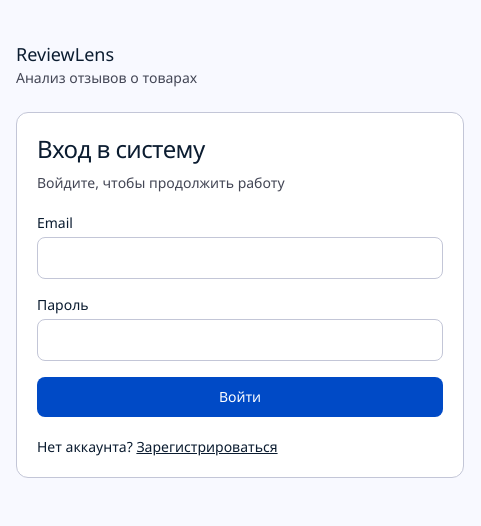
Test case: cookie session forms › shows the server error inline and leaves the anonymous session intact
The image size is (481, 526).
Type "a@test.local" into the field labelled "Email" at (240, 258), box 37,237 -> 443,279
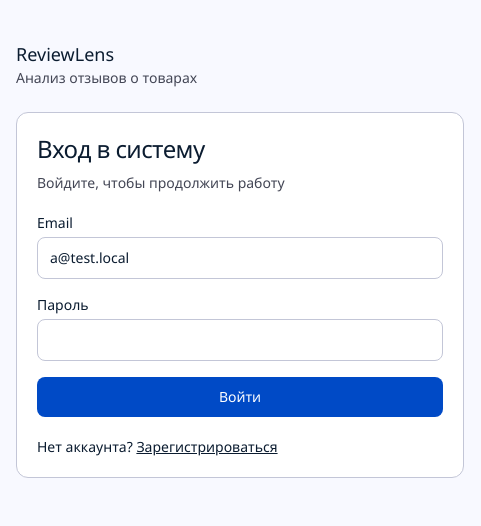
Type "old" into the password field labelled "Пароль" at (240, 340), box 37,319 -> 443,361
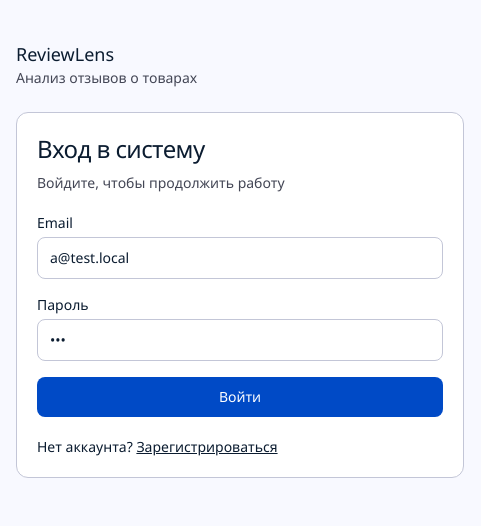
Click the button "Войти" at (240, 397), box 37,377 -> 443,417
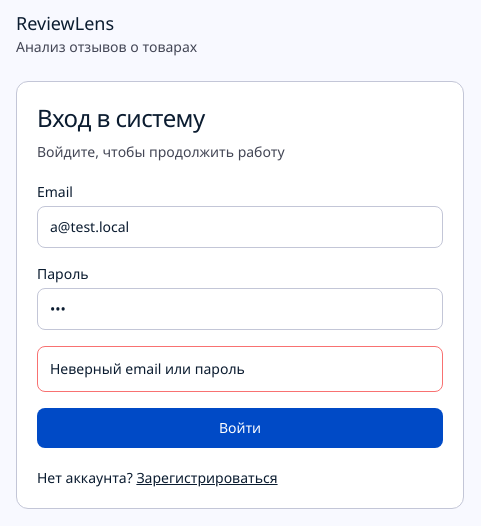
Result: the message reads "Неверный email или пароль" at 50,359 -> 245,378
